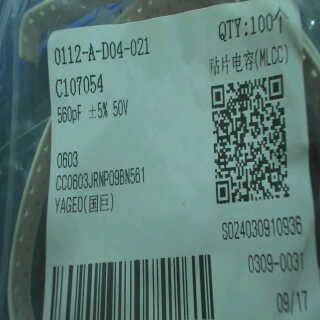560pF: (54, 100, 85, 132)
